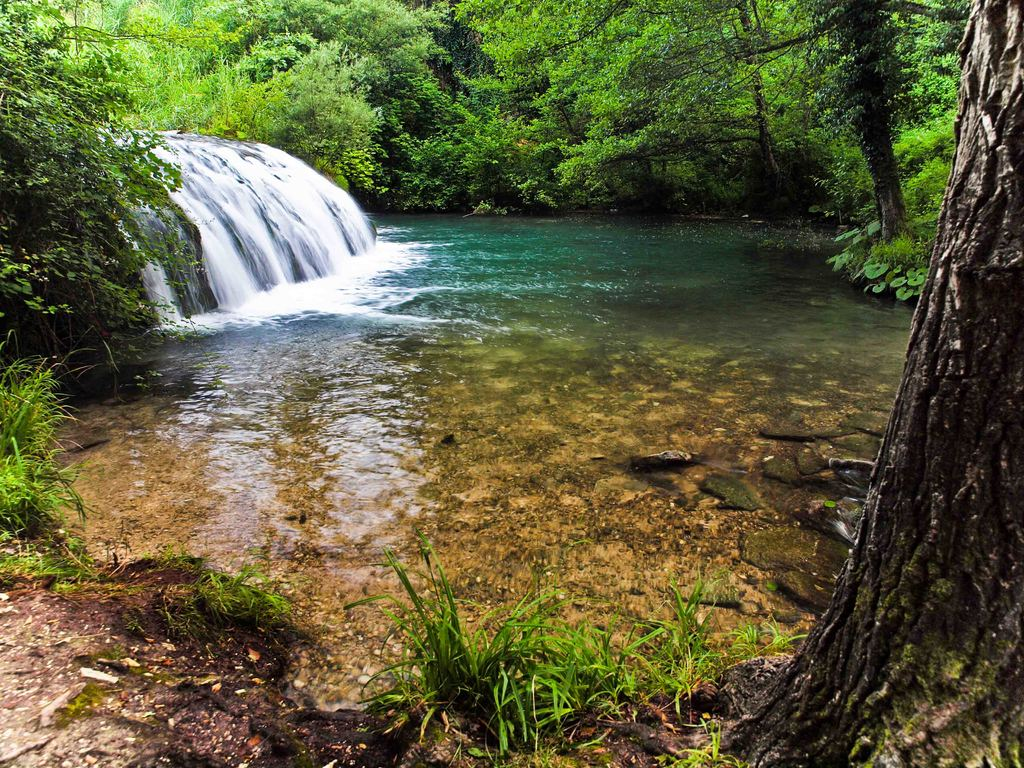Tree: (0, 0, 972, 368), (597, 0, 1024, 767)
